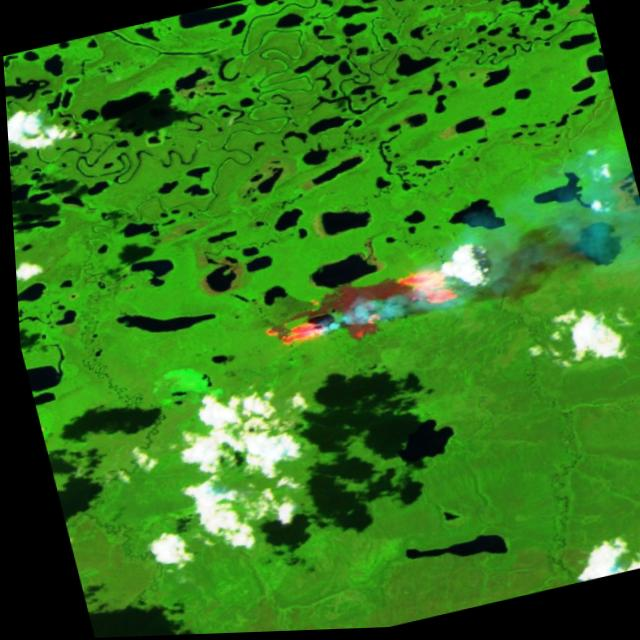fire: (249, 263, 464, 359)
